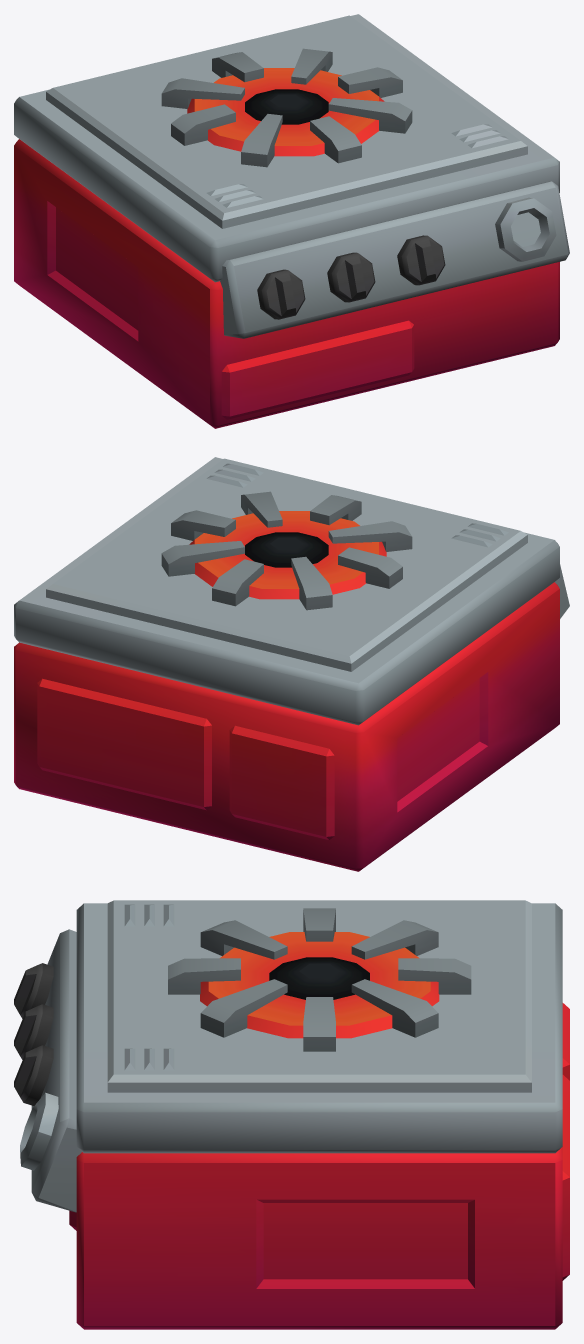
The model's file is kkr.stove_single.glb.
The picture shows the model from 3 angles, top to bottom: view 1: azimuth 30°, elevation 25°; view 2: azimuth 150°, elevation 25°; view 3: azimuth 270°, elevation 25°; orthographic projection. The views are drawn at different scales.
Parts seen in each view (by area): view 1: stove_single; view 2: stove_single; view 3: stove_single.
Boxes of the visible parts, bbox=[...] form: stove_single: bbox=[14, 14, 569, 428]; stove_single: bbox=[14, 457, 569, 871]; stove_single: bbox=[14, 900, 569, 1329].
Bounding box in the file's own units: 1.49 × 0.8998 × 1.7.
Materials: 1 (1 with a texture image).
